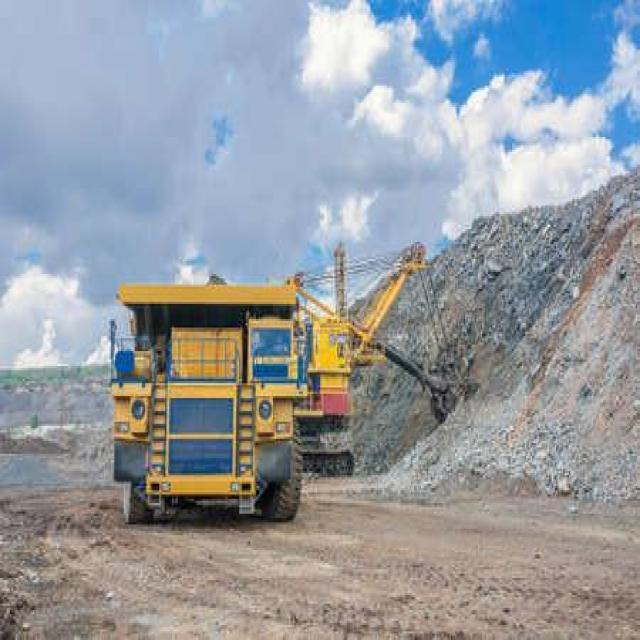Camion volquete: (112, 272, 308, 520)
Excavadora: (289, 244, 478, 476)
